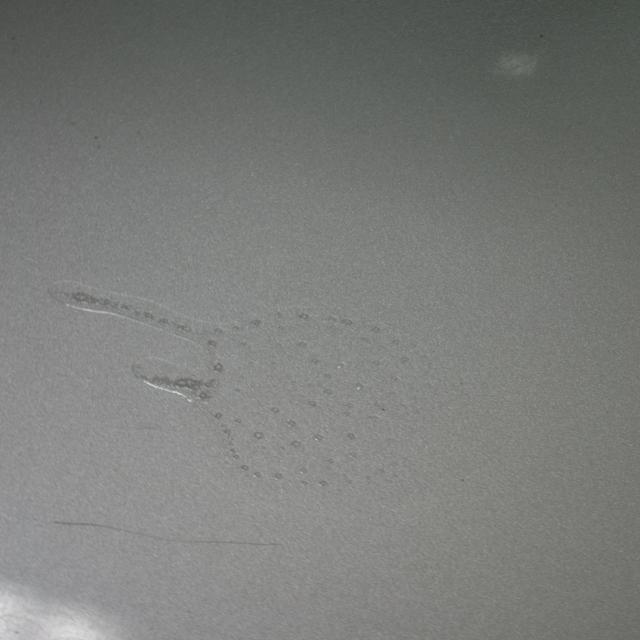runs: (59, 289, 446, 486)
scratch: (46, 515, 284, 549)
